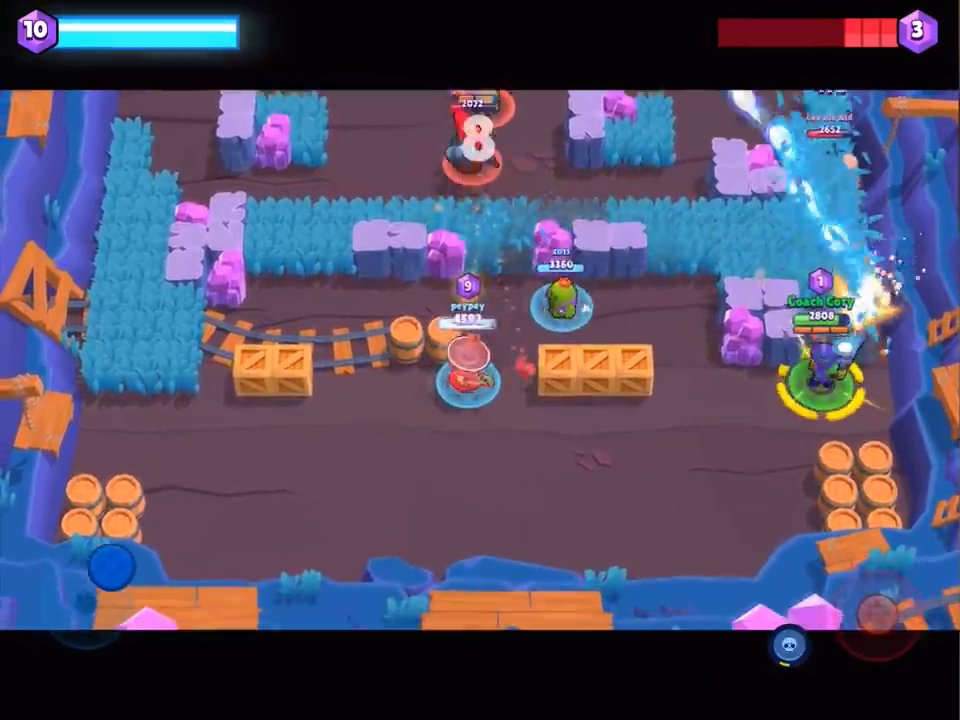move_stick: (92, 544, 139, 583)
red: (440, 97, 500, 193), (458, 83, 519, 130)
